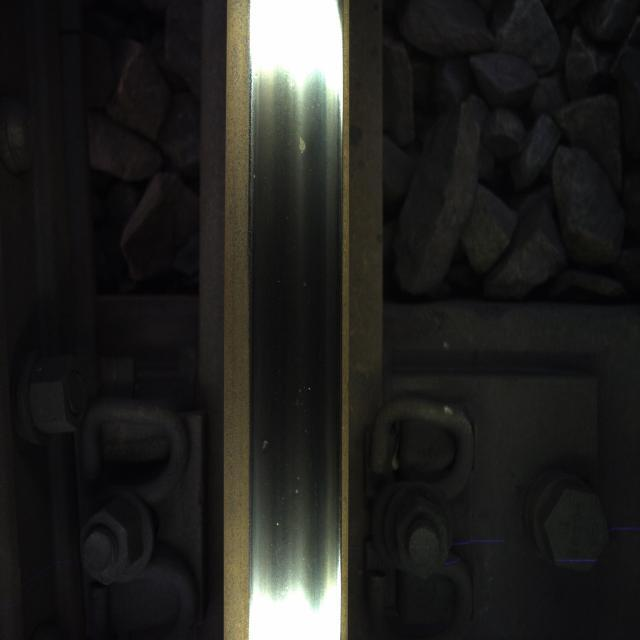break: (256, 58, 339, 592)
